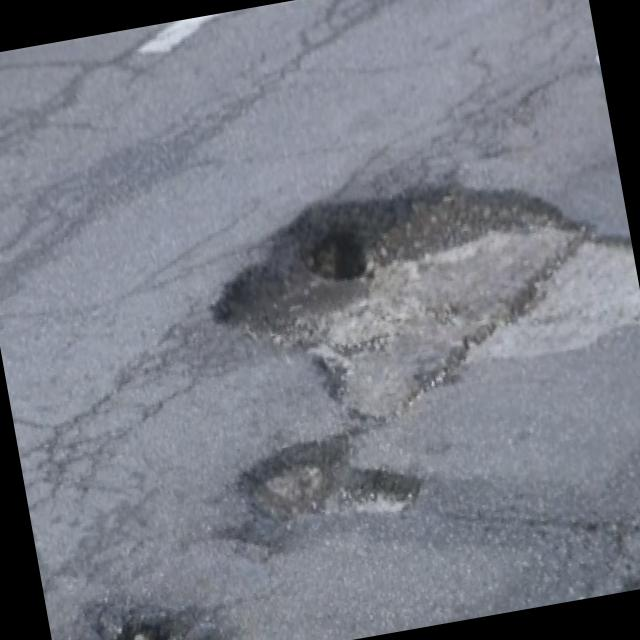Potholes: (207, 127, 611, 402), (220, 407, 443, 580)
